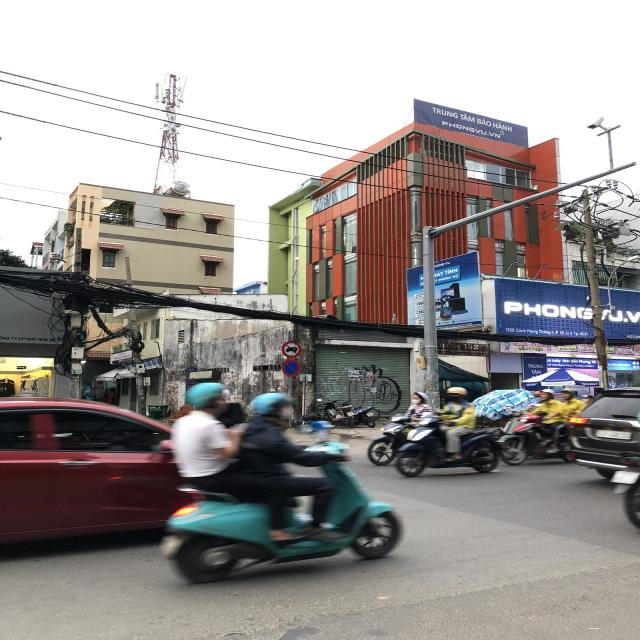Bien bao cam do xe: (281, 359, 301, 378)
Bien bao cam xe oto tai: (281, 337, 302, 358)
